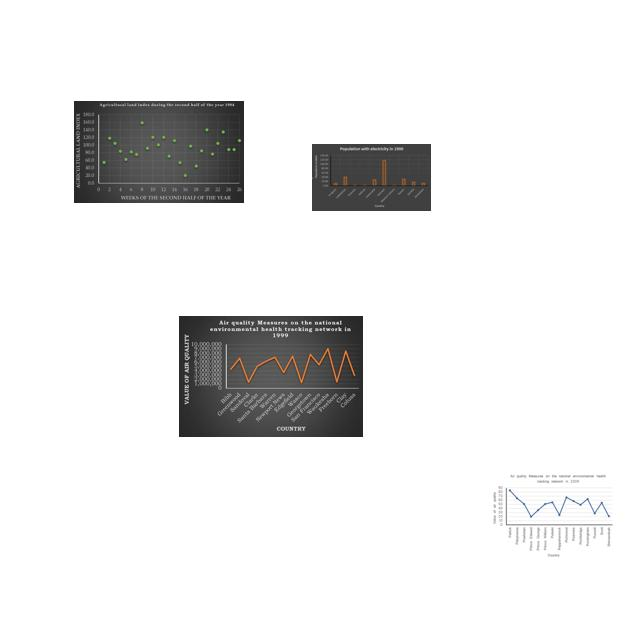Graph: (179, 316, 363, 437), (74, 101, 244, 203), (489, 471, 615, 560), (312, 144, 431, 211)
